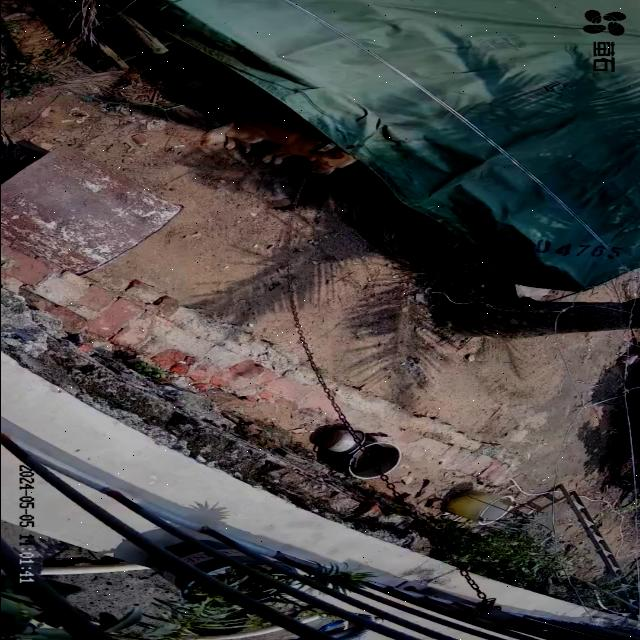dog: (201, 114, 360, 178)
